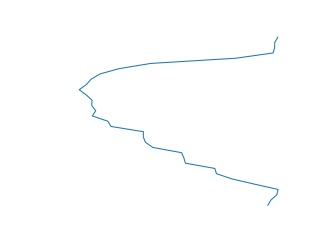mouthBar: (76, 38, 283, 205)
